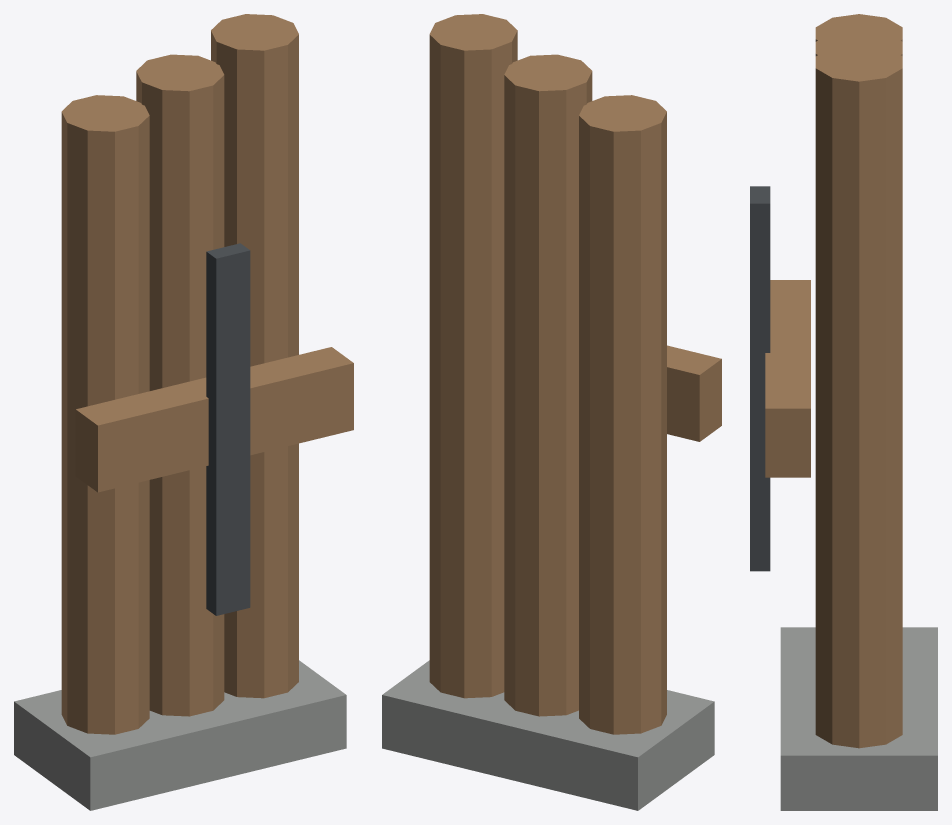
The model's file is SM_AET_Palisade_EndCap_A01.fbx.
The picture shows the model from 3 angles, left to right: view 1: azimuth 30°, elevation 25°; view 2: azimuth 150°, elevation 25°; view 3: azimuth 270°, elevation 25°; orthographic projection. The views are drawn at different scales.
Visible parts, largest first — view 1: EndStake_Timber_01, EndStake_Timber_02, EndStake_Timber_03, StoneFooting_End, EndBrace_Timber, EndIronStrap; view 2: EndStake_Timber_01, EndStake_Timber_03, EndStake_Timber_02, StoneFooting_End, EndBrace_Timber; view 3: EndStake_Timber_03, StoneFooting_End, EndBrace_Timber, EndIronStrap, EndStake_Timber_02, EndStake_Timber_01.
Part boxes in pixels (x1=…): EndStake_Timber_01: x1=61, y1=95, x2=149, y2=734; EndStake_Timber_02: x1=136, y1=54, x2=224, y2=716; EndStake_Timber_03: x1=211, y1=14, x2=298, y2=698; StoneFooting_End: x1=14, y1=660, x2=346, y2=810; EndBrace_Timber: x1=75, y1=347, x2=353, y2=492; EndIronStrap: x1=206, y1=243, x2=250, y2=615; EndStake_Timber_01: x1=579, y1=95, x2=666, y2=734; EndStake_Timber_03: x1=429, y1=14, x2=517, y2=698; EndStake_Timber_02: x1=504, y1=54, x2=592, y2=716; StoneFooting_End: x1=382, y1=660, x2=714, y2=810; EndBrace_Timber: x1=667, y1=345, x2=721, y2=441; EndStake_Timber_03: x1=815, y1=43, x2=902, y2=748; StoneFooting_End: x1=780, y1=627, x2=937, y2=810; EndBrace_Timber: x1=765, y1=280, x2=810, y2=477; EndIronStrap: x1=750, y1=186, x2=770, y2=571; EndStake_Timber_02: x1=815, y1=28, x2=902, y2=55; EndStake_Timber_01: x1=815, y1=14, x2=902, y2=41.
Size of what is drawn, in the model's own units: 7400 by 12000 by 31400.
